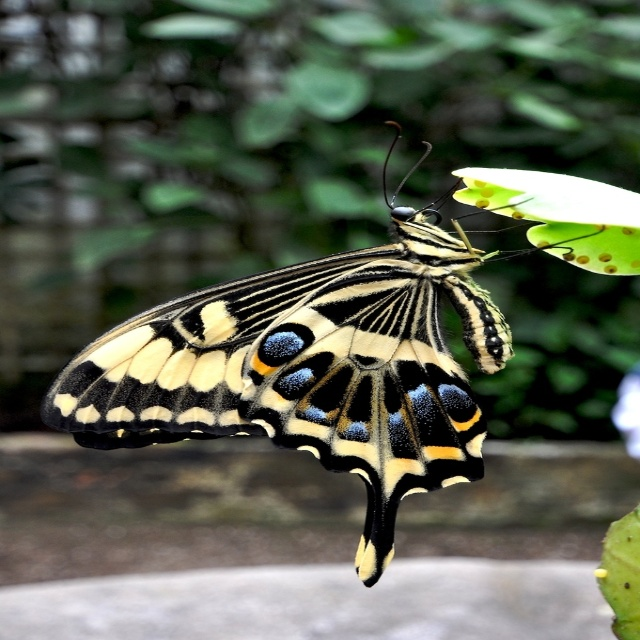Butterfly: (39, 116, 611, 585)
